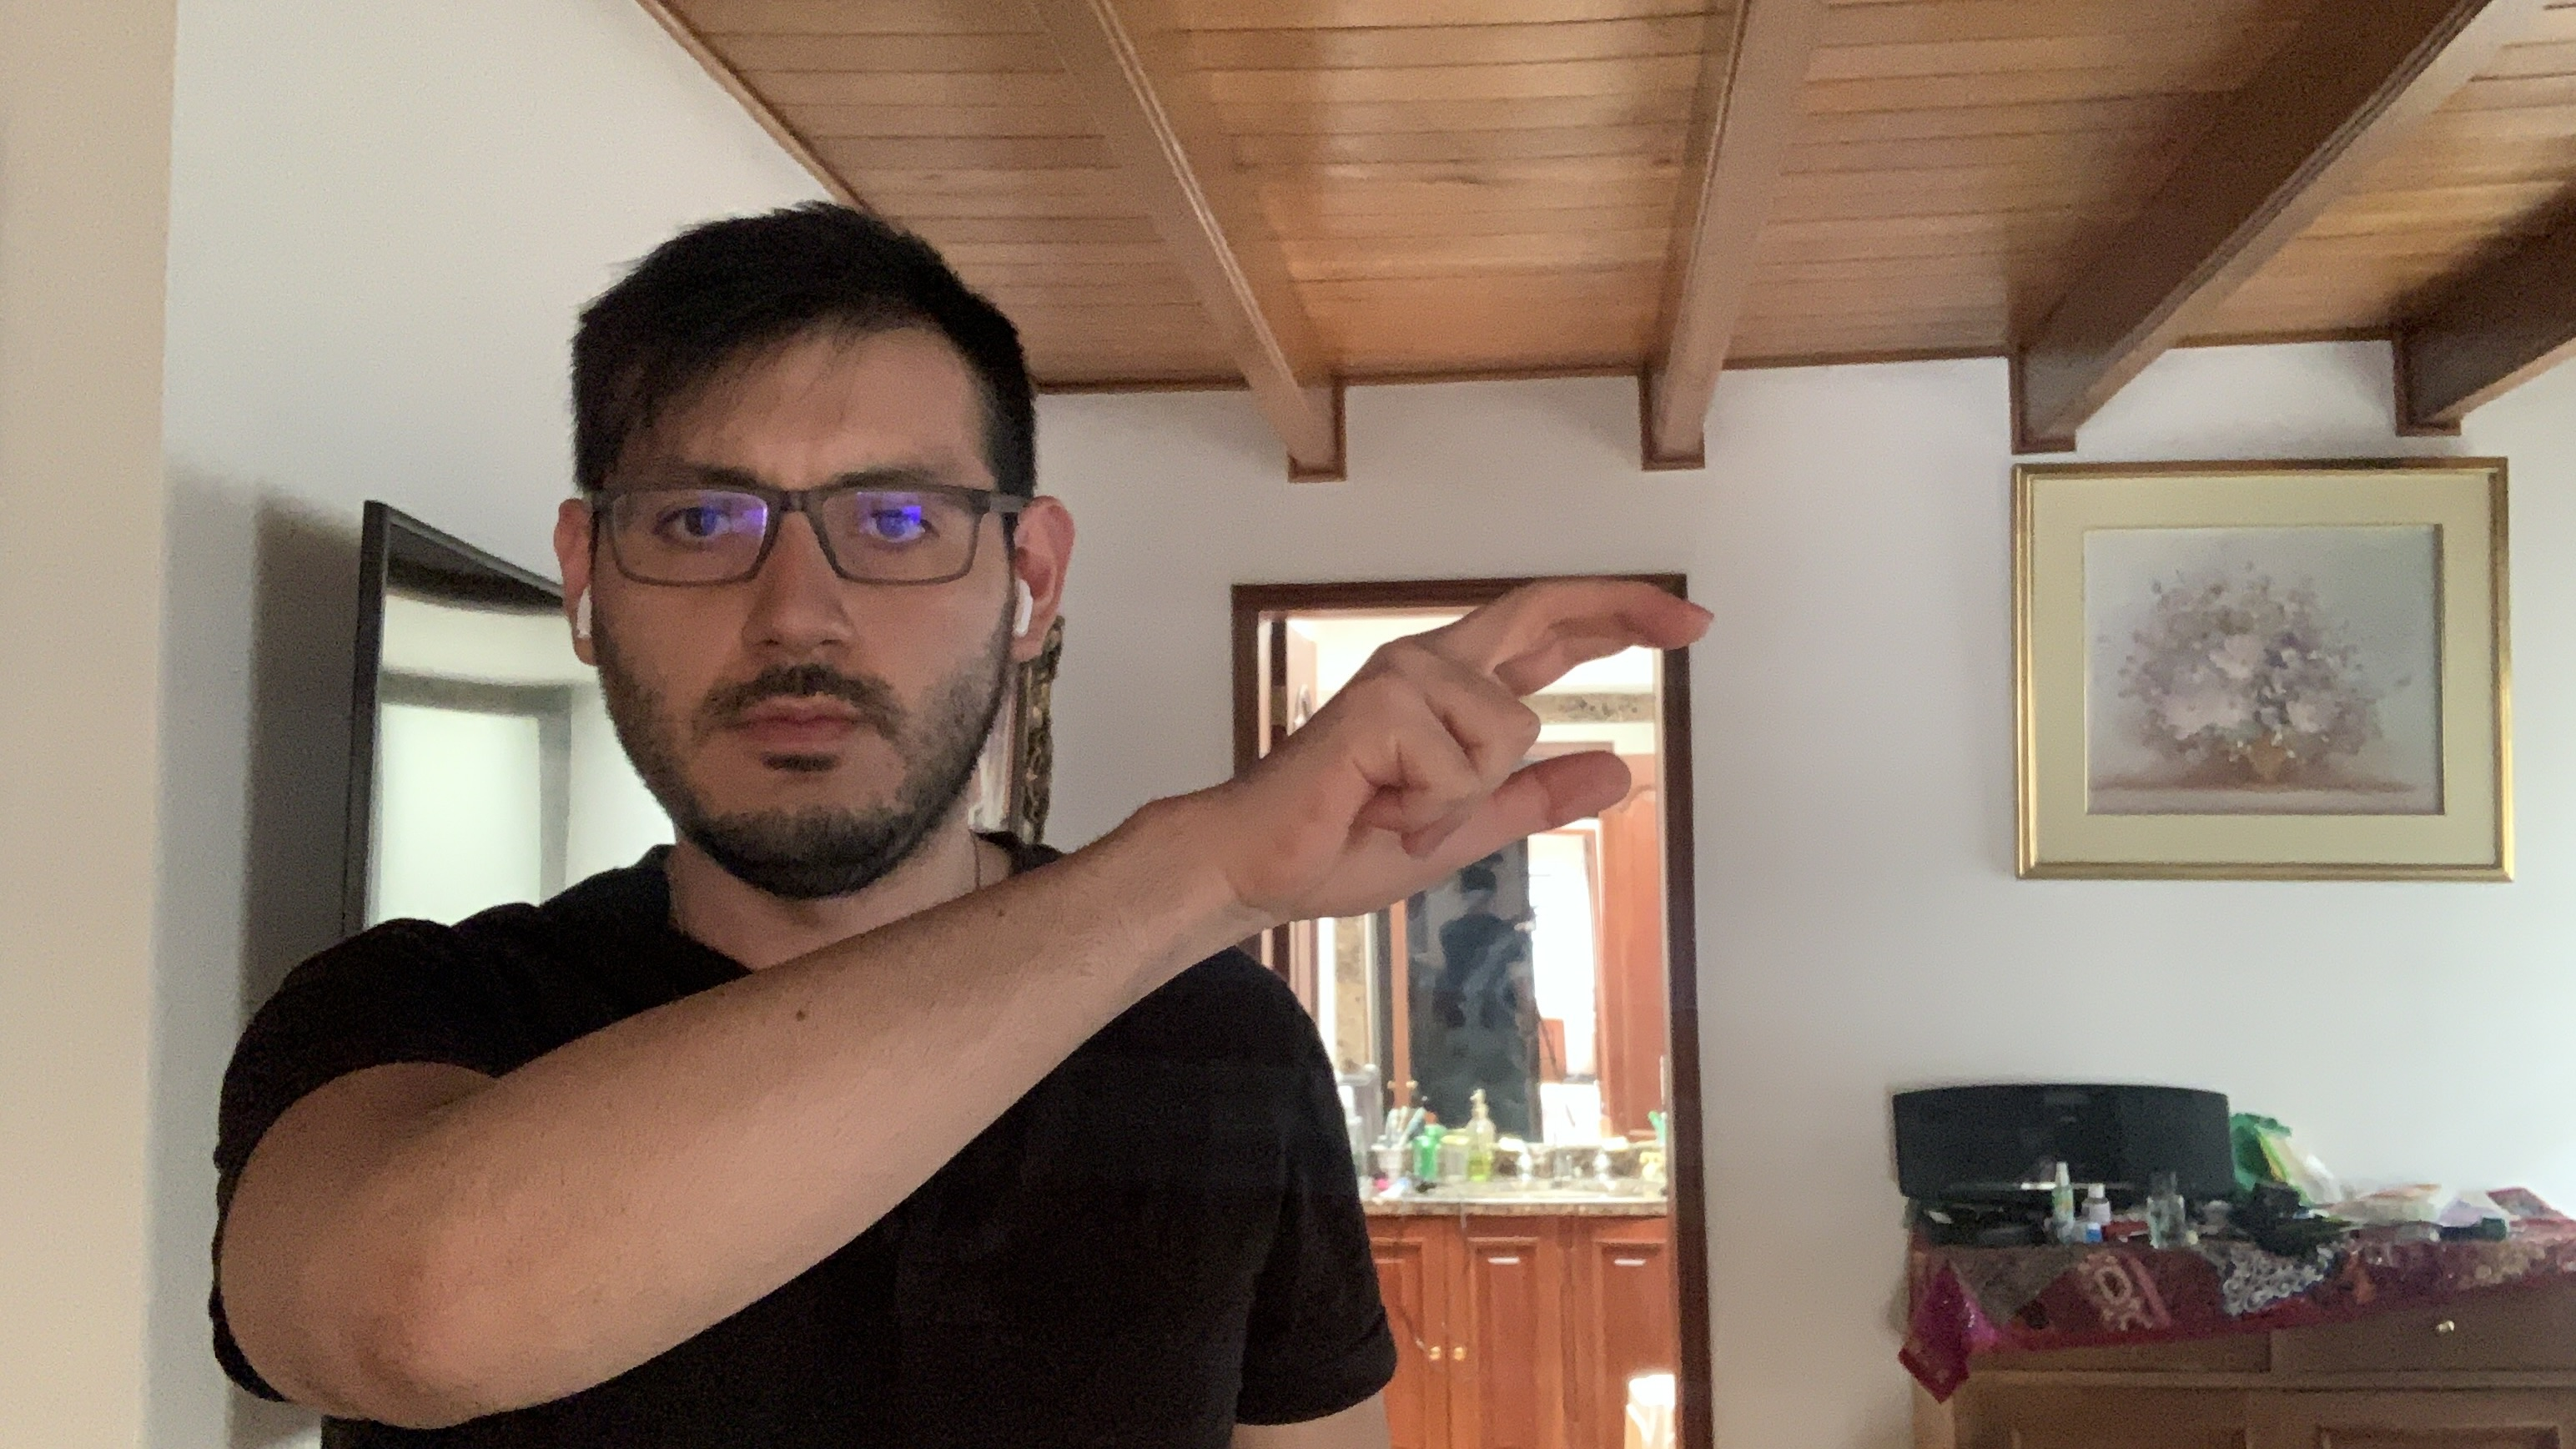No: (1214, 571, 1727, 927)
